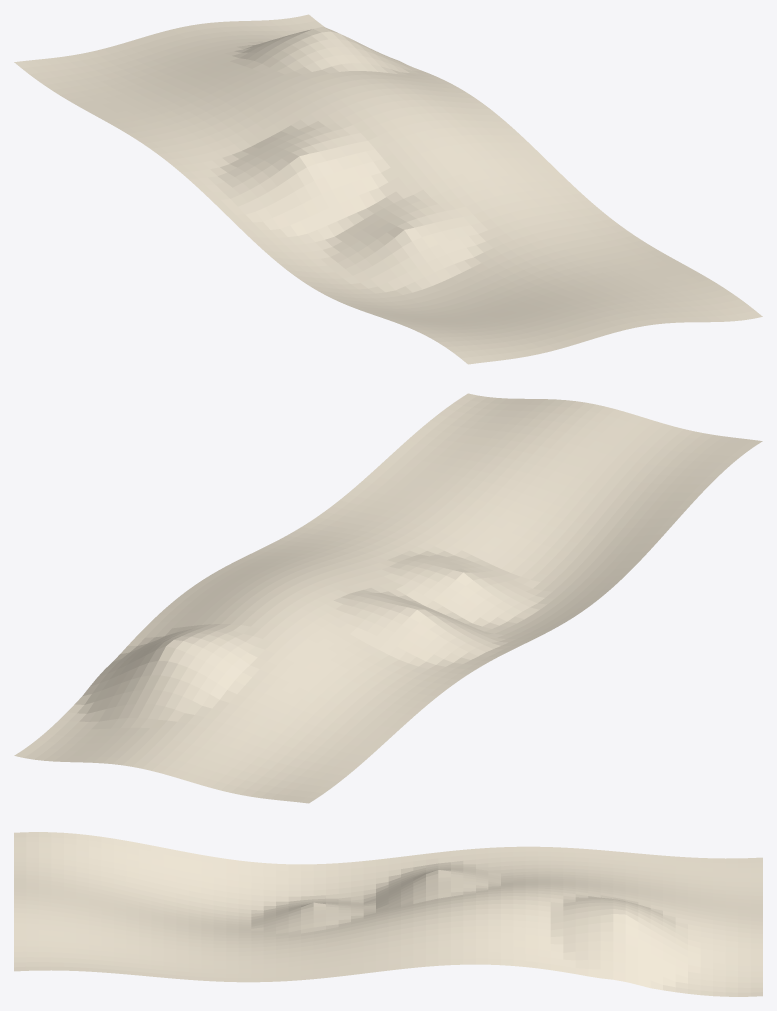
Rendered from terrain-hills.glb.
The picture shows the model from 3 angles, top to bottom: view 1: azimuth 30°, elevation 25°; view 2: azimuth 150°, elevation 25°; view 3: azimuth 270°, elevation 25°; orthographic projection. The views are drawn at different scales.
Parts seen in each view (by area): view 1: ReefTerrain; view 2: ReefTerrain; view 3: ReefTerrain.
Part boxes in pixels (left/top/right/bottom): ReefTerrain: left=14, top=14, right=762, bottom=364; ReefTerrain: left=14, top=393, right=762, bottom=803; ReefTerrain: left=14, top=832, right=762, bottom=996.
Bounding box in the file's own units: 30 × 6.73 × 80.
